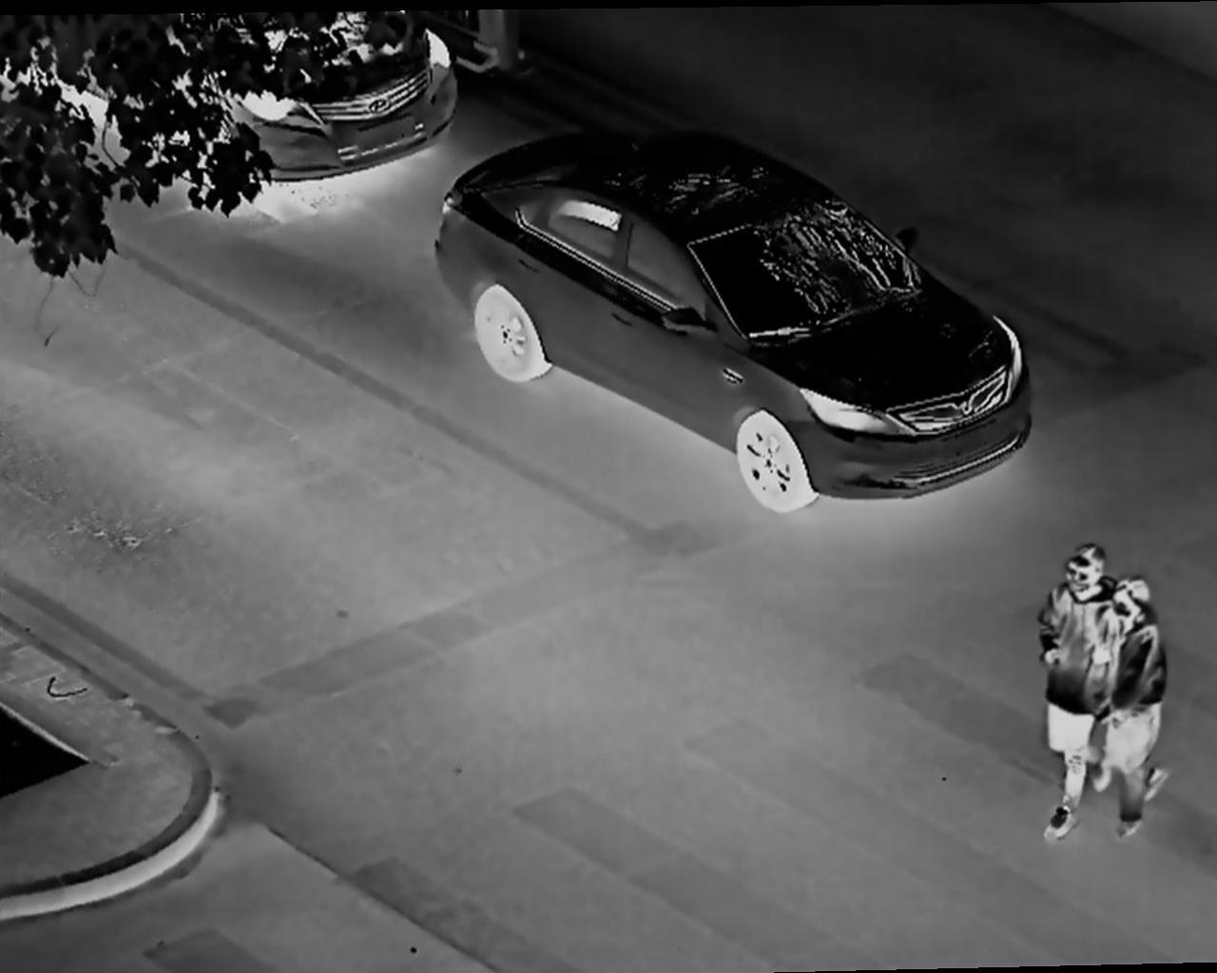person: (1036, 544, 1121, 848), (1111, 579, 1169, 840)
